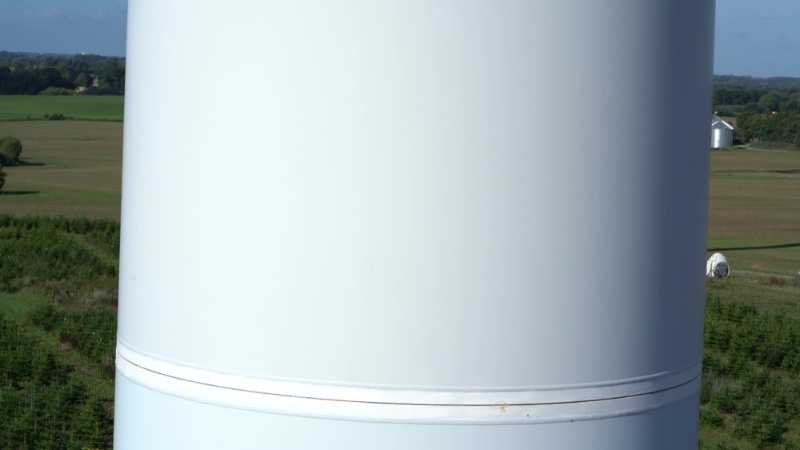weldseam: (114, 363, 702, 430), (116, 330, 705, 393)
